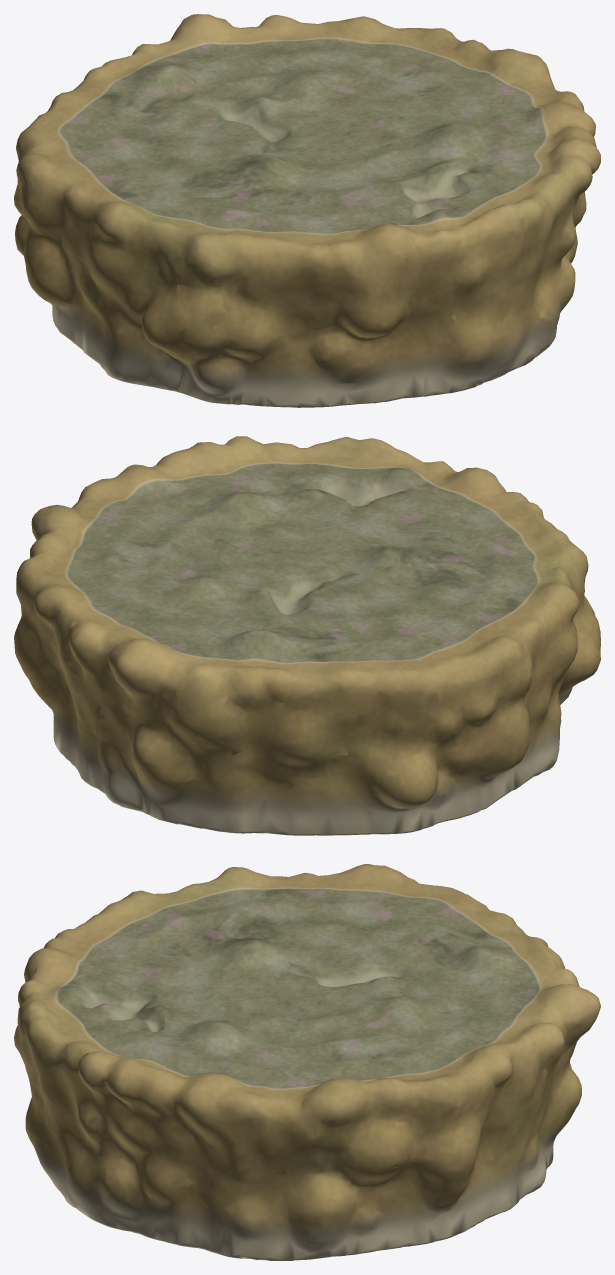
Rendered from Coral_MicroAtoll.gltf.
3 renders of one model, top to bottom at view 1: azimuth 30°, elevation 25°; view 2: azimuth 150°, elevation 25°; view 3: azimuth 270°, elevation 25°, orthographic.
Parts seen in each view (by area): view 1: Coral_MicroAtoll; view 2: Coral_MicroAtoll; view 3: Coral_MicroAtoll.
Part boxes in pixels (<box>): Coral_MicroAtoll: <box>14,14,600,407</box>; Coral_MicroAtoll: <box>14,436,600,835</box>; Coral_MicroAtoll: <box>14,864,600,1260</box>.
Size of the model in its own units: 2.86 by 0.9838 by 2.88.
1 material, 1 textured.
